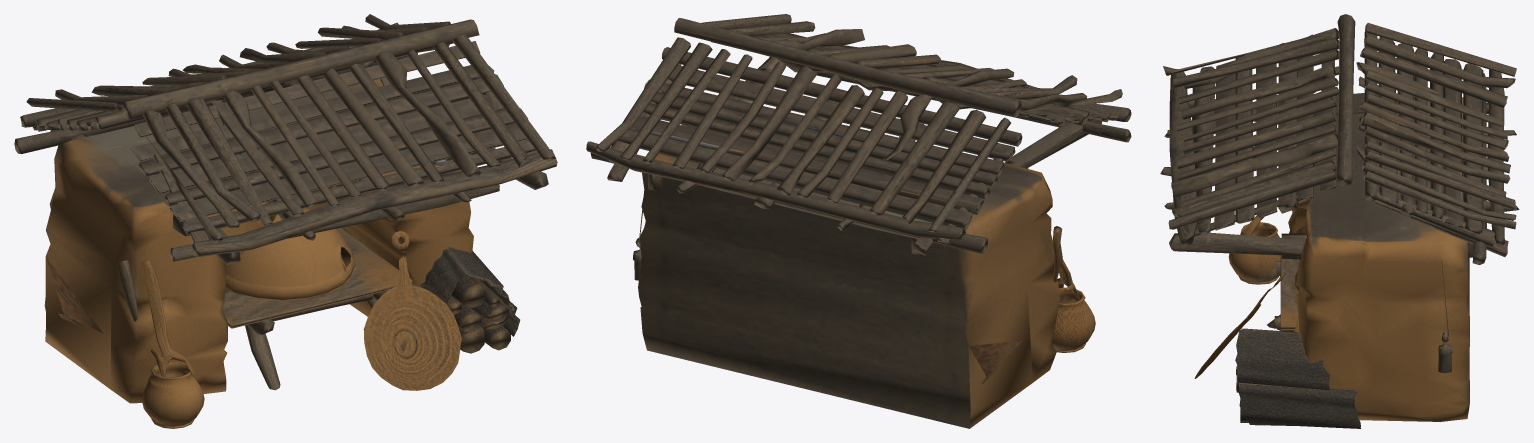
File: firin.glb
3 renders of one model, left to right at view 1: azimuth 30°, elevation 25°; view 2: azimuth 150°, elevation 25°; view 3: azimuth 270°, elevation 25°, orthographic. The views are drawn at different scales.
Size of the model in its own units: 0.957 by 0.6567 by 0.8081.
Materials: 1 (1 with a texture image).
